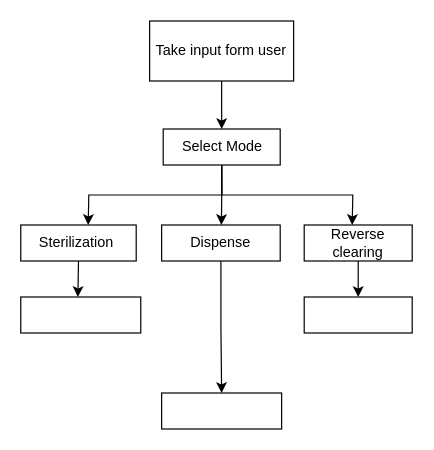
Some shapes in this 434 by 450 pixel diagram are drawn without their labels. Here are the shapes that lost their labels. From the top down, the centre of each, then its label:
At point (80, 314): "Starts Sterilization".
At point (357, 314): "Auto clean".
